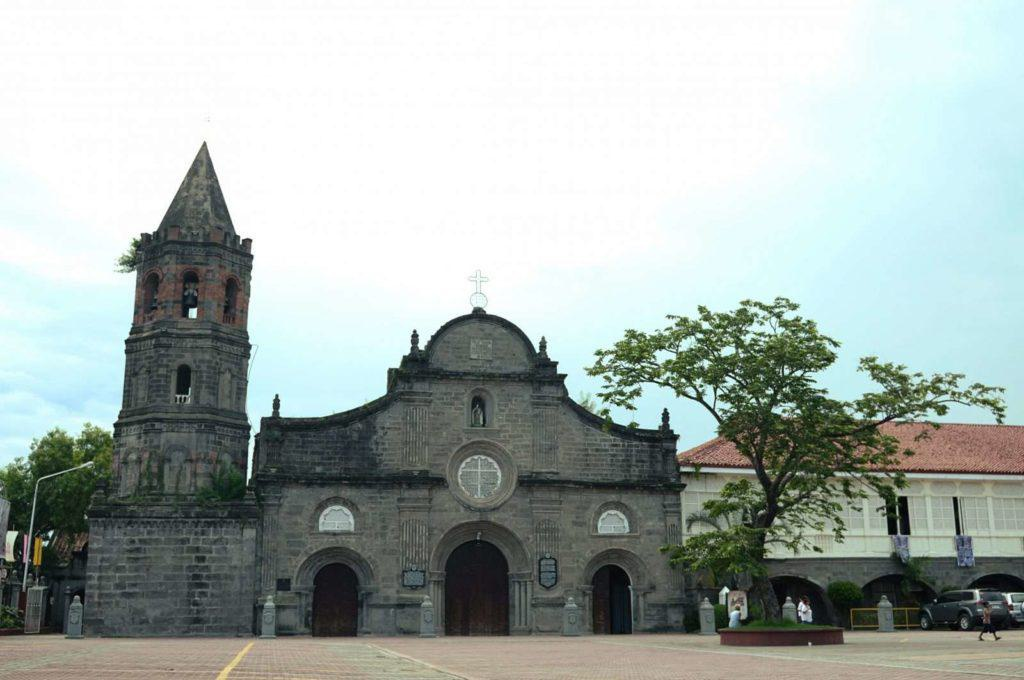barasoain_church_malolos_bulacan: (79, 135, 687, 636)
